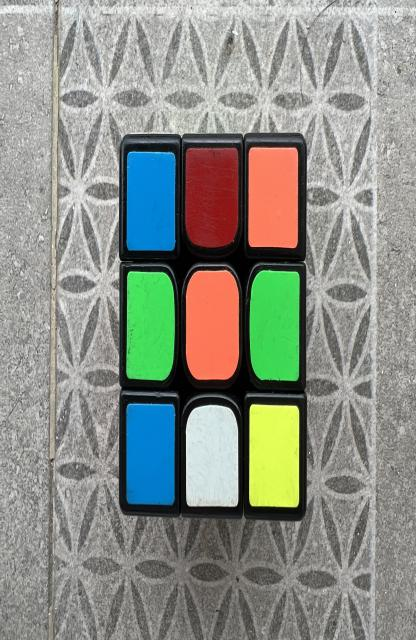Blue: (126, 403, 175, 505), (127, 152, 176, 252)
Green: (249, 270, 300, 382), (126, 272, 175, 380)
Orange: (186, 270, 239, 380), (249, 147, 298, 248)
Red: (185, 148, 238, 248)
White: (186, 405, 239, 507)
Yellow: (249, 405, 299, 508)
